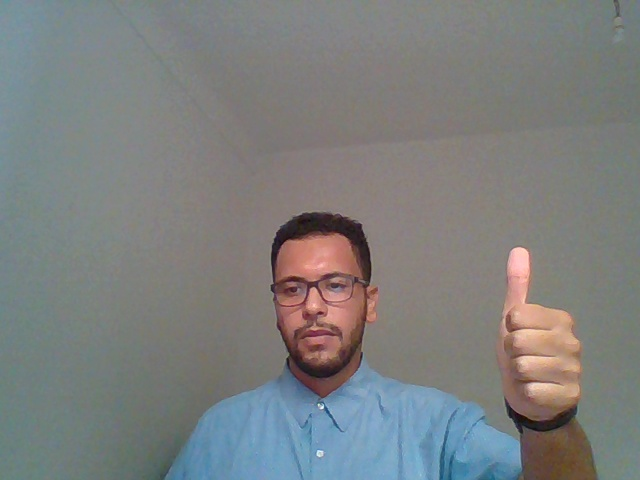ok: (452, 229, 613, 459)
